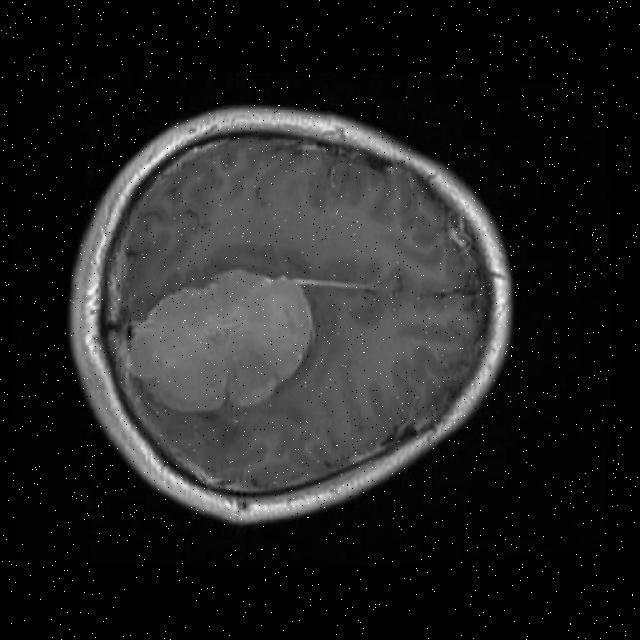Meningioma: (131, 270, 313, 413)
